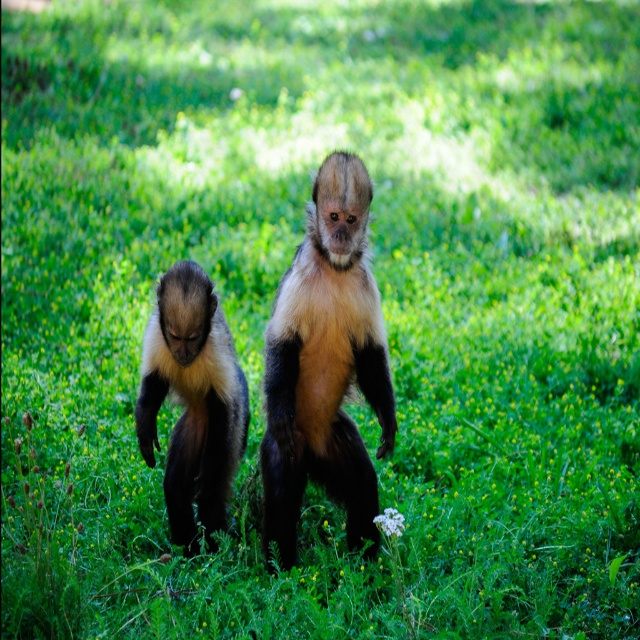Monkey: (256, 147, 399, 577), (132, 256, 251, 564)
